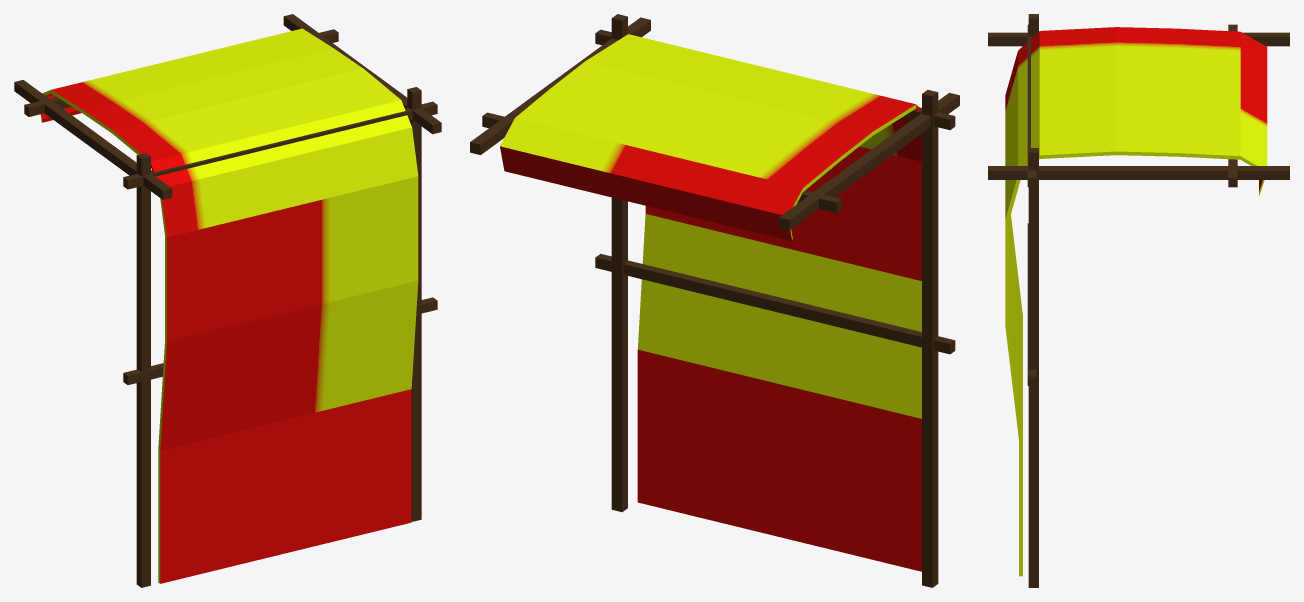
The model's file is ShopUV.fbx.
The picture shows the model from 3 angles, left to right: view 1: azimuth 30°, elevation 25°; view 2: azimuth 150°, elevation 25°; view 3: azimuth 270°, elevation 25°; orthographic projection. The views are drawn at different scales.
Visible parts, largest first — view 1: Cube; view 2: Cube; view 3: Cube.
Part boxes in pixels (<box>): Cube: <box>14,14,441,587</box>; Cube: <box>470,14,959,587</box>; Cube: <box>988,14,1289,587</box>.
Bounding box in the file's own units: 194 × 257 × 162.
